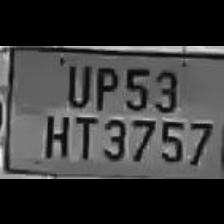3: (151, 64, 179, 110), (99, 114, 127, 160)
5: (119, 61, 150, 108), (156, 116, 184, 162)
7: (184, 116, 211, 166), (128, 114, 154, 160)
H: (36, 109, 70, 161)
P: (91, 60, 119, 108)
T: (70, 111, 96, 160)
U: (60, 57, 92, 106)
